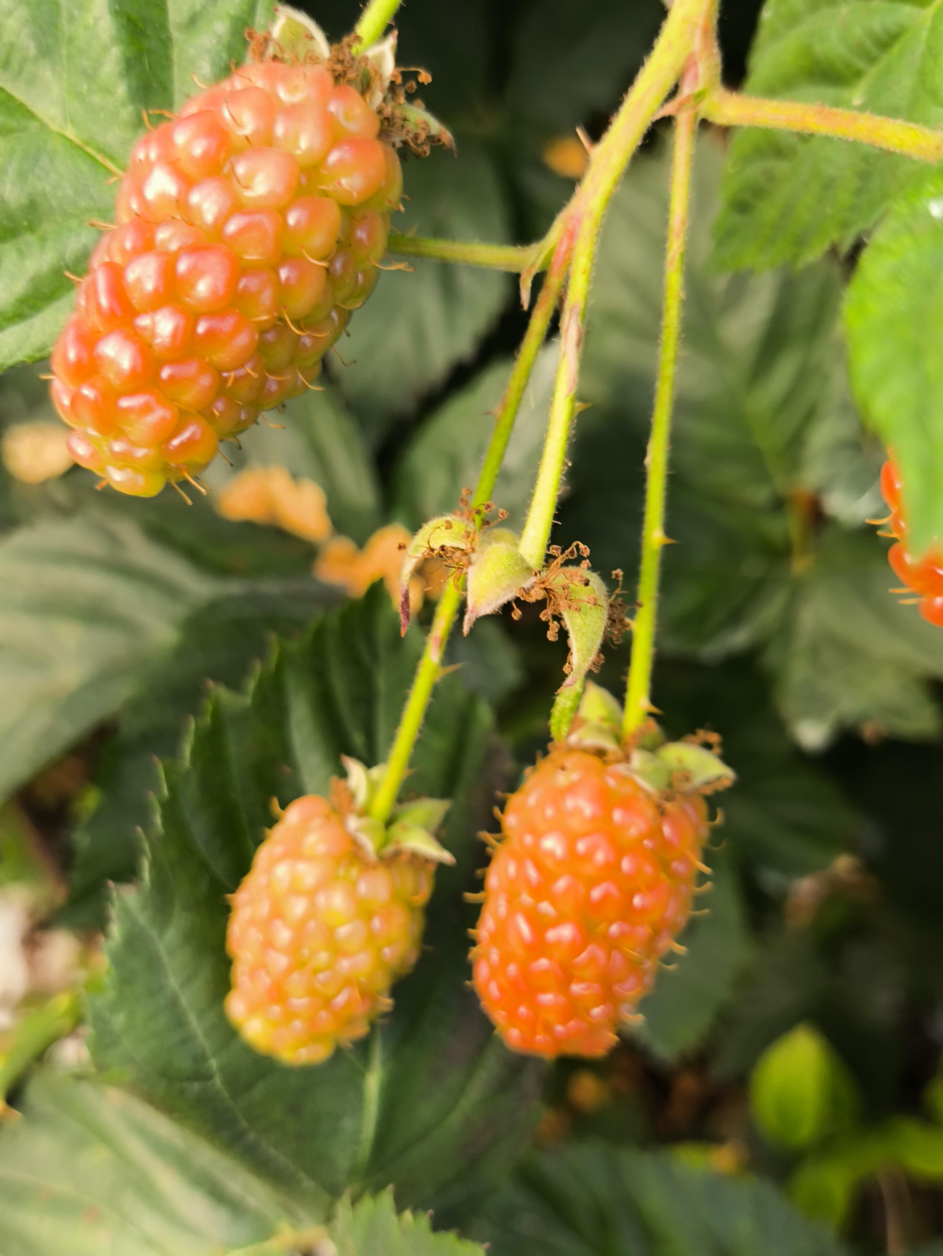naranja: (50, 35, 401, 496), (473, 743, 709, 1057), (225, 792, 435, 1067)
